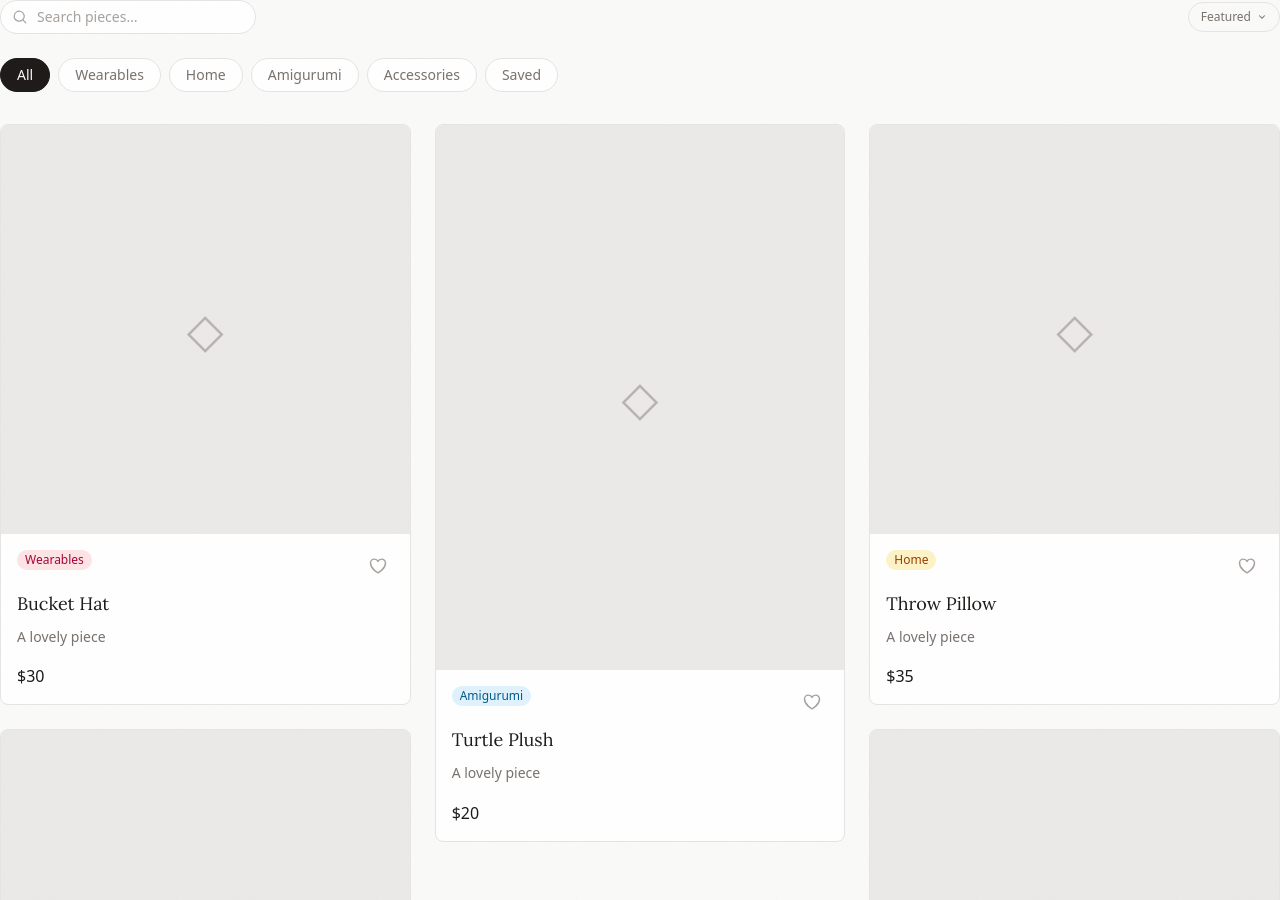
Test: Gallery — category filter › Wearables filter shows only wearables
What coordinates should you click on to do the following:
click the button "Wearables"
I would click on:
 (110, 75)
Its box is 58,58 -> 161,92.
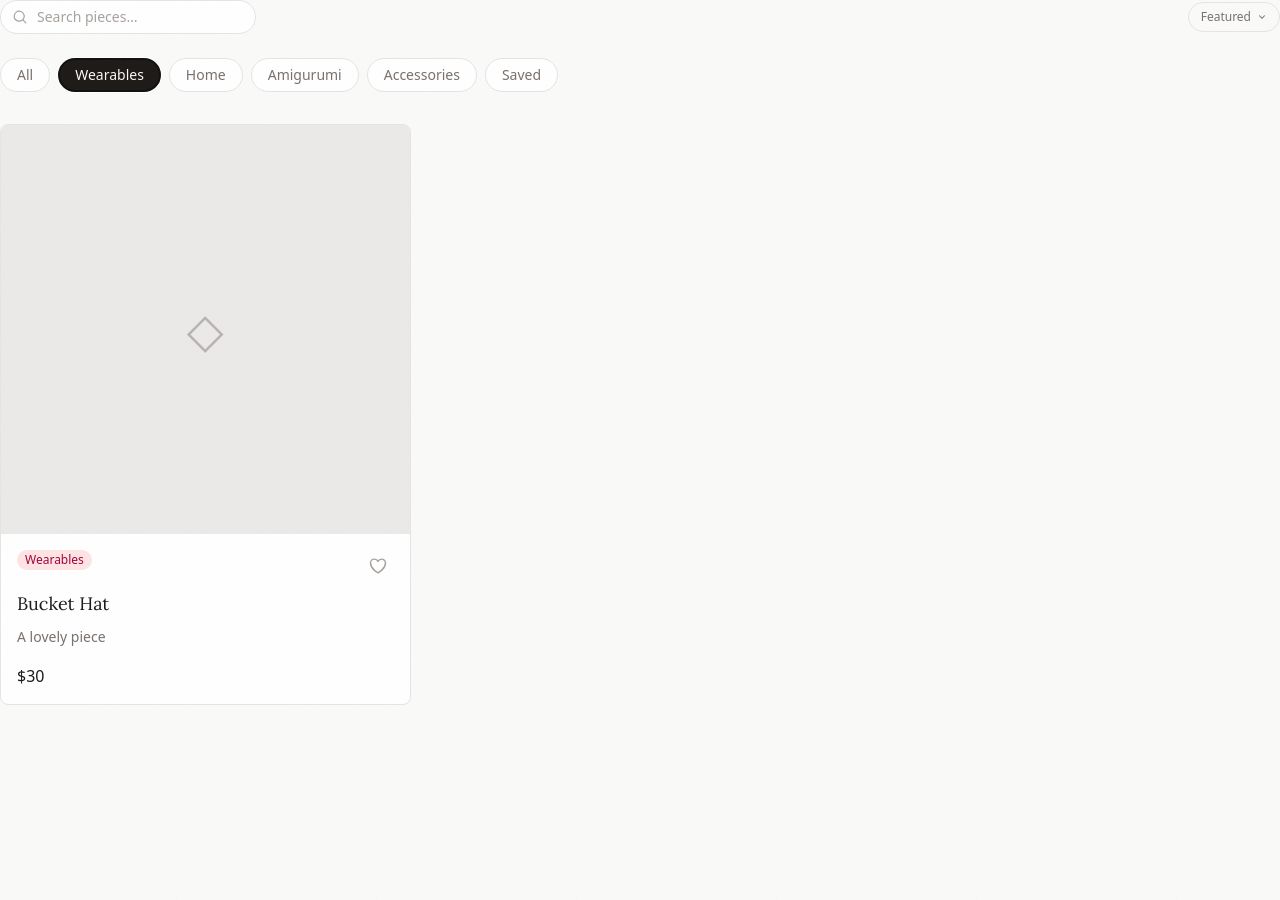
Expected: the heading "Bucket Hat" is shown, 17,592 -> 109,615
Now the link "Turtle Plush" is gone
